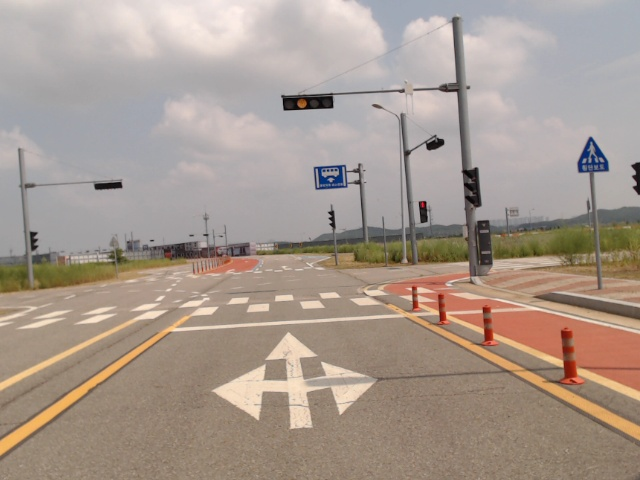orange_4: (282, 95, 336, 110)
